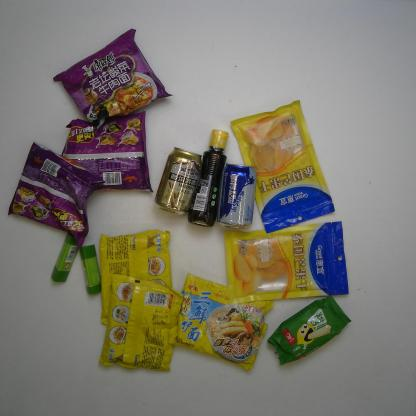Alcohol: (154, 146, 202, 216), (216, 163, 257, 230)
Dessert: (266, 296, 352, 366)
Dried Fruit: (230, 100, 335, 234), (224, 221, 349, 304)
Instant Noodles: (52, 28, 174, 133), (167, 273, 275, 371), (8, 140, 105, 249), (98, 274, 184, 372), (61, 110, 154, 193), (99, 228, 173, 325)
Seasoner: (187, 129, 230, 228)
Stationery: (51, 232, 78, 282), (79, 244, 101, 295)
